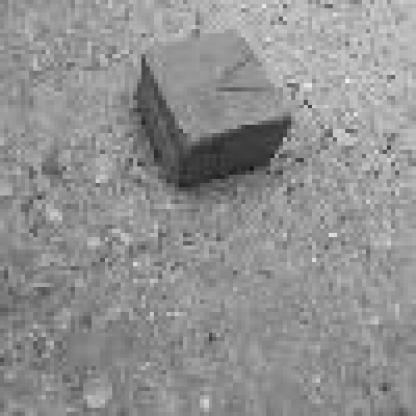brick: (135, 28, 291, 191)
